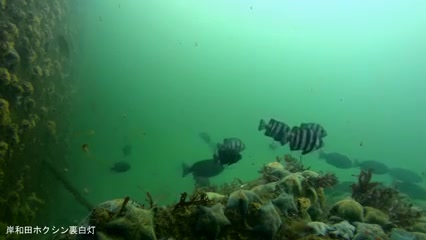ishidai: (295, 117, 327, 154), (265, 118, 292, 144), (226, 137, 248, 150)
smallfish: (315, 148, 354, 167)
